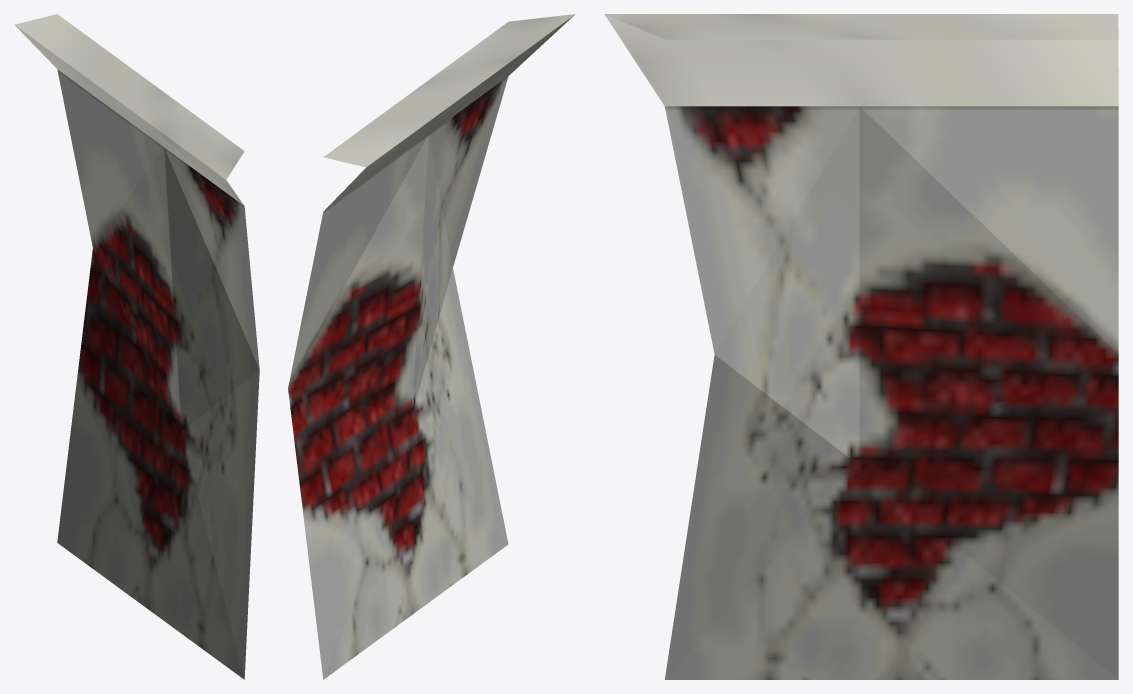
Rendered from W_A2r_x [Verwahrlost]_344.glb.
The picture shows the model from 3 angles, left to right: view 1: azimuth 30°, elevation 25°; view 2: azimuth 150°, elevation 25°; view 3: azimuth 270°, elevation 25°; orthographic projection. The views are drawn at different scales.
Visible parts, largest first — view 1: polySurfaceShape1210, polySurfaceShape1212; view 2: polySurfaceShape1210, polySurfaceShape1212; view 3: polySurfaceShape1210, polySurfaceShape1212.
Boxes of the visible parts, x1,y1,x2,y2 form: polySurfaceShape1210: (57,69,259,679); polySurfaceShape1212: (14,14,244,205); polySurfaceShape1210: (288,76,508,679); polySurfaceShape1212: (323,14,575,210); polySurfaceShape1210: (664,106,1118,679); polySurfaceShape1212: (604,14,1118,106).
Bounding box in the file's own units: 0.0607 × 0.3891 × 0.2833.
Materials: 2 (2 with a texture image).
